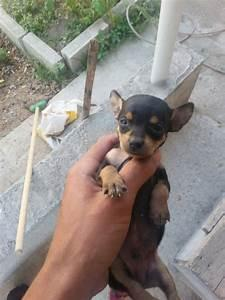dog: (94, 63, 203, 299)
